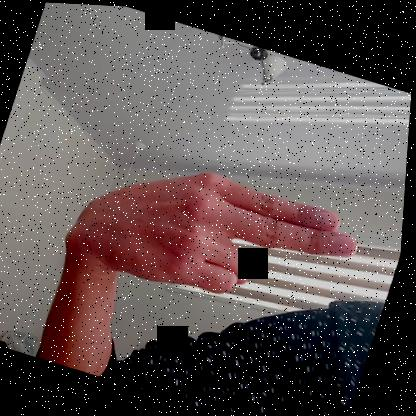H: (52, 131, 379, 339)
